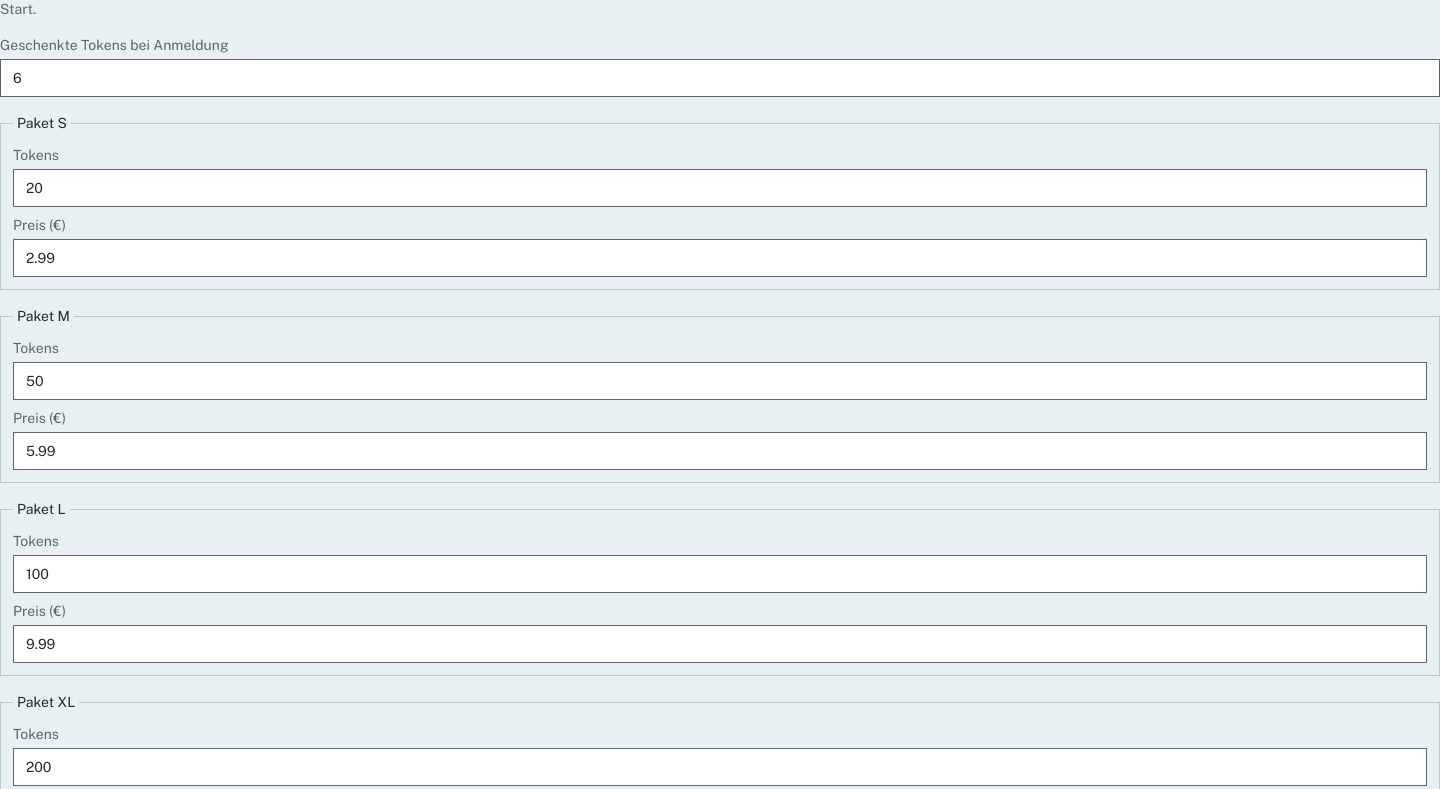
Scenario: AdminSettingsPage › saves a changed package price, converted to whole cents
Replace the text in the number field labelled "Preis (€)" below "Paket S" with "3.49" at (720, 258), box [13,239,1427,277]
(page scrolled)
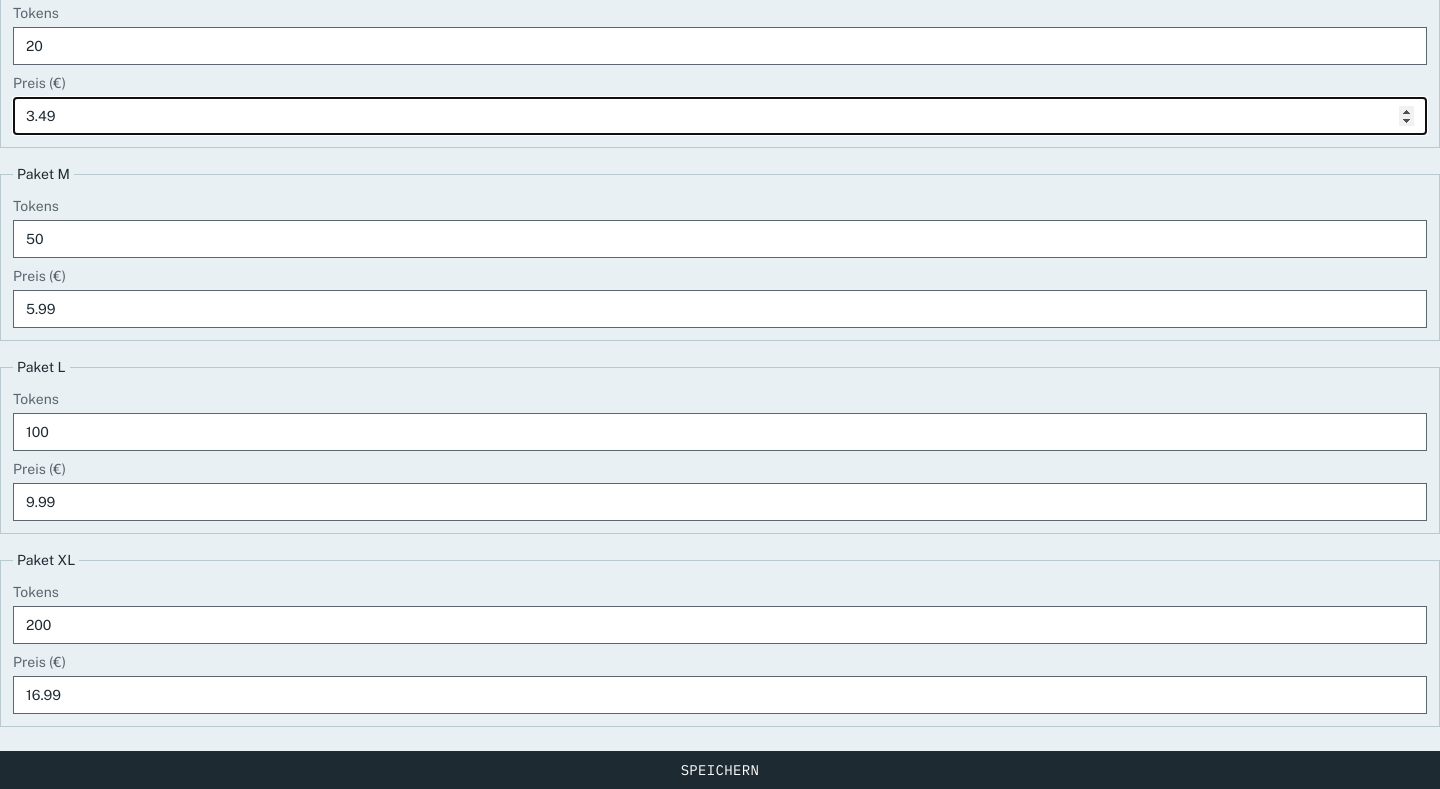
Click the button "Speichern" at (720, 770), box [0,751,1439,788]
(page scrolled)
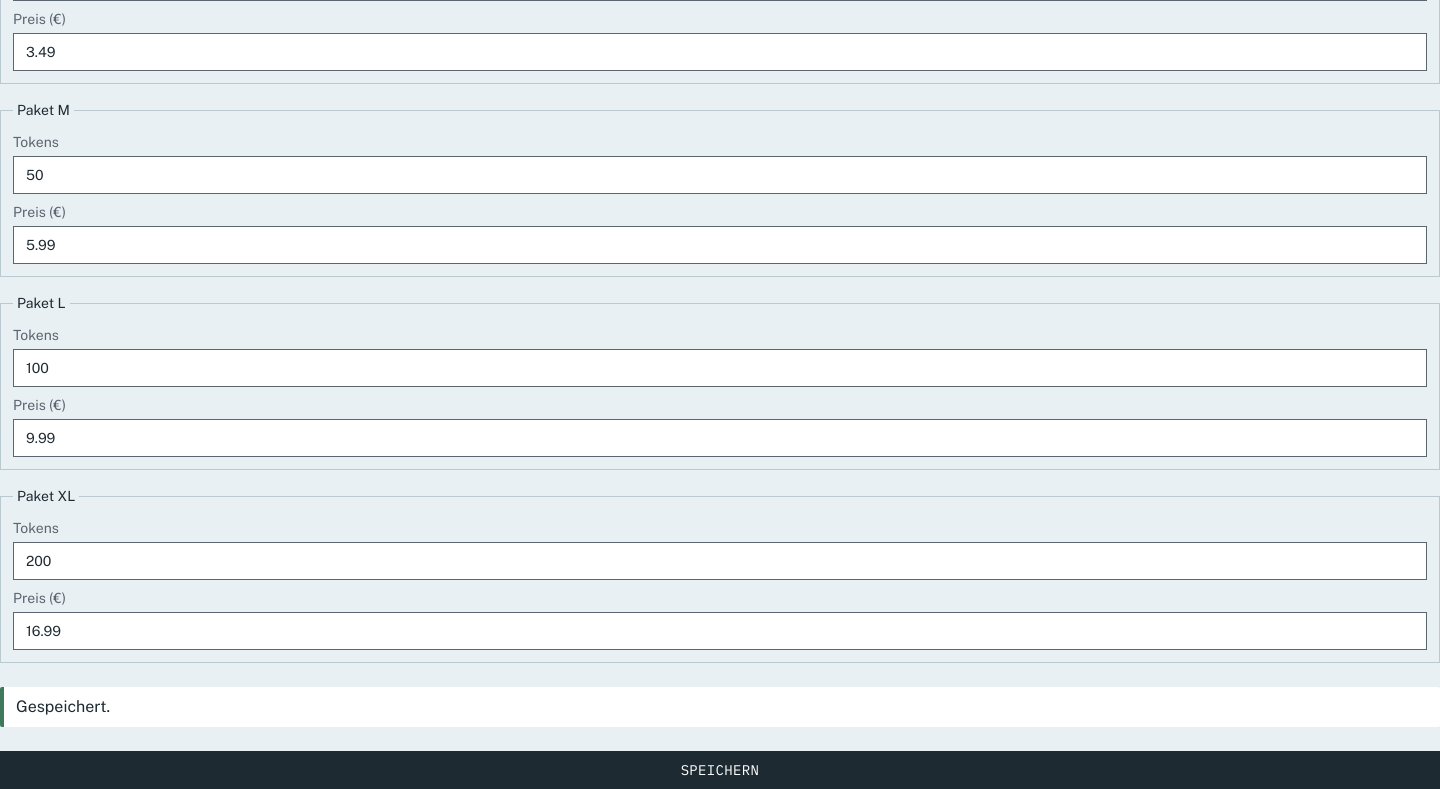
Result: the text "Gespeichert." is shown at [0,687,1439,727]
